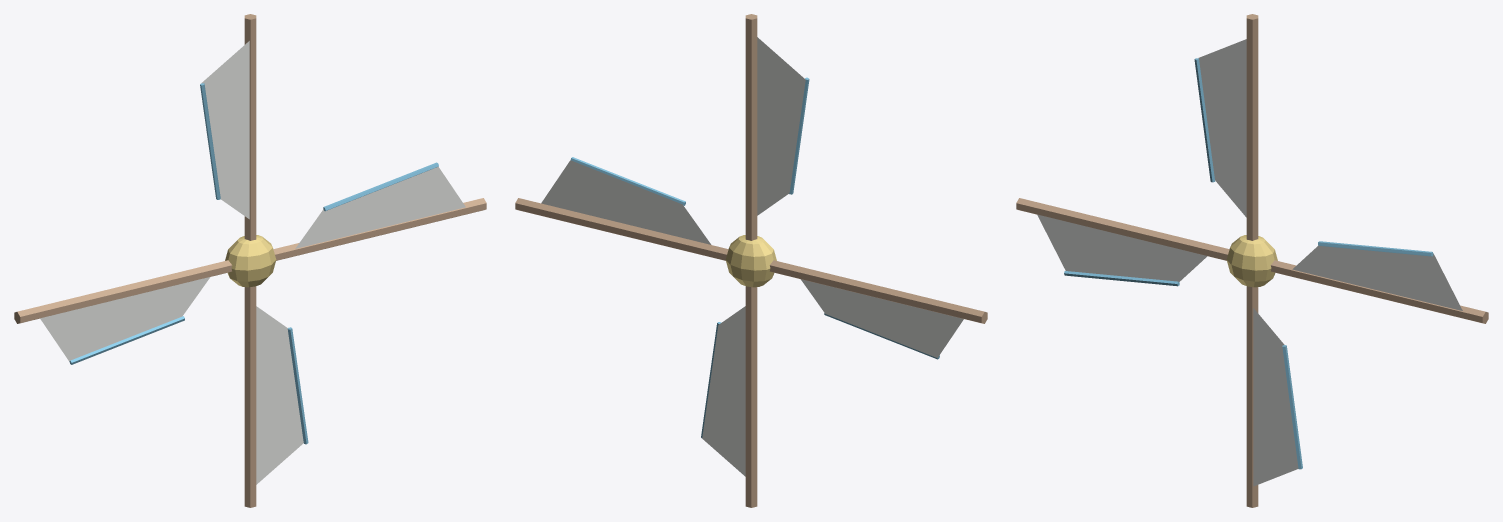
The model's file is aspas_molino.glb.
The picture shows the model from 3 angles, left to right: view 1: azimuth 30°, elevation 25°; view 2: azimuth 150°, elevation 25°; view 3: azimuth 330°, elevation 25°; orthographic projection.
Parts seen in each view (by area): view 1: aspas_molino; view 2: aspas_molino; view 3: aspas_molino.
Boxes of the visible parts, x1,y1,x2,y2 form: aspas_molino: (14, 14, 486, 507); aspas_molino: (515, 14, 987, 507); aspas_molino: (1016, 14, 1488, 507).
Size of the model in its own units: 4.32 by 4.32 by 0.34.
